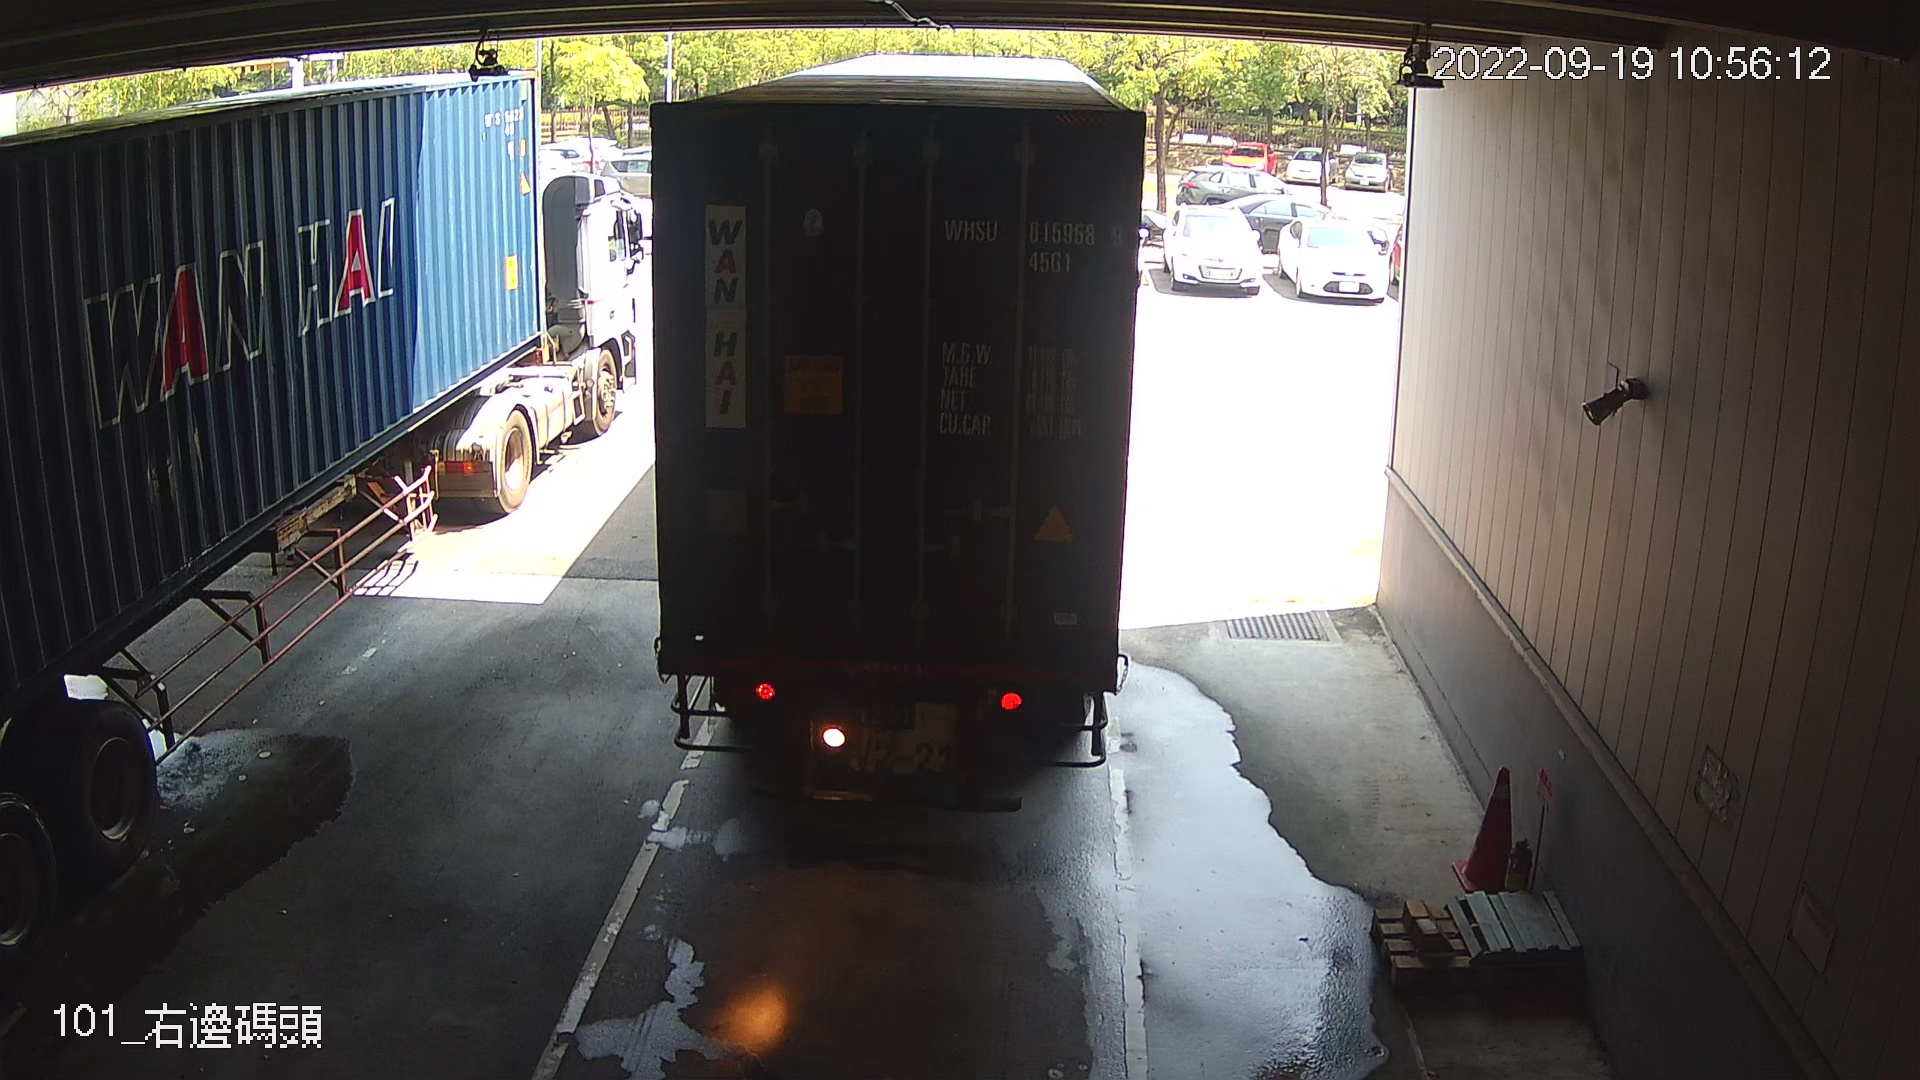container: (931, 208, 1129, 282)
